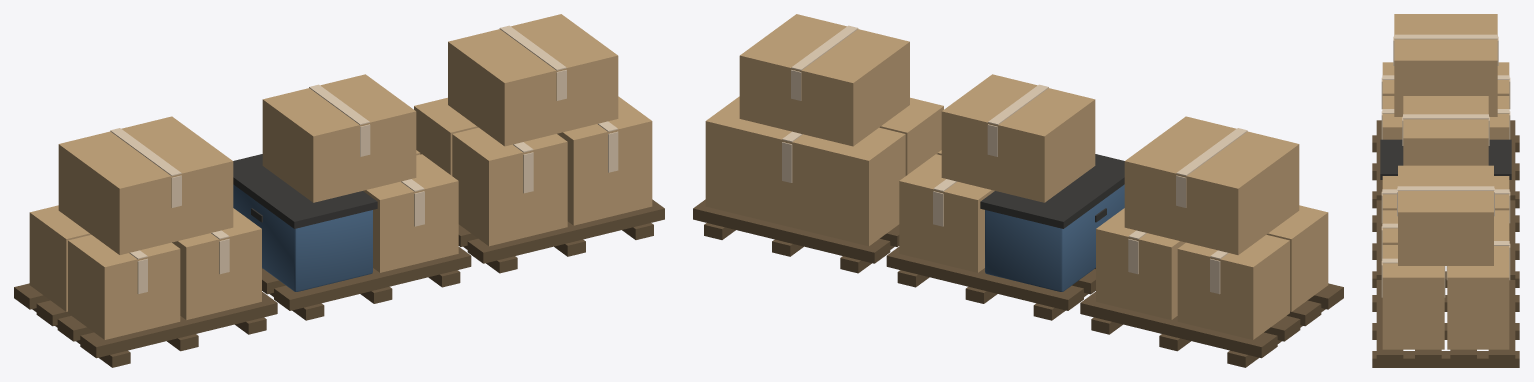
Rendered from cargo_row.glb.
3 renders of one model, left to right at view 1: azimuth 30°, elevation 25°; view 2: azimuth 150°, elevation 25°; view 3: azimuth 270°, elevation 25°, orthographic. The views are drawn at different scales.
Parts seen in each view (by area): view 1: P1_Top_1, P3_Top, P2_Top, P3_Box_1, P1_Box_1, P3_Box_2, P2_Container, P2_Box_1, P1_Box_2, P2_Container_Rim, P1_Box_3, RowPallet2_Deck_-0.38 (+9 smaller); view 2: P3_Box_3, P1_Top_1, P3_Top, P2_Top, P1_Box_3, P2_Container, P2_Box_2, P1_Box_4, P2_Container_Rim, P1_Box_1, RowPallet2_Deck_0.38, RowPallet1_Deck_0.38 (+8 smaller); view 3: P3_Top, P1_Top_1, P3_Box_3, P2_Top, P3_Box_2, P2_Container_Rim, RowPallet3_Runner_0.45, RowPallet3_Deck_0.38, RowPallet3_Deck_-0.38, P1_Box_2, P1_Box_4, P1_Top_1_Tape_Top (+21 smaller).
Part boxes in pixels (<box>): P1_Top_1: <box>58,116,233,254</box>; P3_Top: <box>448,14,618,146</box>; P2_Top: <box>262,74,416,202</box>; P3_Box_1: <box>452,127,567,246</box>; P1_Box_1: <box>68,235,180,339</box>; P3_Box_2: <box>557,96,652,225</box>; P2_Container: <box>233,184,372,291</box>; P2_Box_1: <box>363,154,458,272</box>; P1_Box_2: <box>172,208,261,319</box>; P2_Container_Rim: <box>233,154,377,228</box>; P1_Box_3: <box>29,205,91,311</box>; RowPallet2_Deck_-0.38: <box>274,247,471,310</box>; P3_Box_3: <box>705,96,905,246</box>; P1_Top_1: <box>1124,116,1299,254</box>; P3_Top: <box>739,14,909,146</box>; P2_Top: <box>941,74,1095,202</box>; P1_Box_3: <box>1177,235,1289,339</box>; P2_Container: <box>985,184,1124,291</box>; P2_Box_2: <box>899,154,994,272</box>; P1_Box_4: <box>1096,208,1185,319</box>; P2_Container_Rim: <box>980,154,1124,228</box>; P1_Box_1: <box>1266,205,1328,311</box>; RowPallet2_Deck_0.38: <box>886,247,1083,310</box>; RowPallet1_Deck_0.38: <box>1080,292,1277,358</box>; P3_Top: <box>1398,165,1493,265</box>; P1_Top_1: <box>1394,14,1497,116</box>; P3_Box_3: <box>1447,210,1509,349</box>; P2_Top: <box>1403,96,1488,165</box>; P3_Box_2: <box>1382,245,1444,349</box>; P2_Container_Rim: <box>1380,139,1511,179</box>; RowPallet3_Runner_0.45: <box>1372,351,1519,367</box>; RowPallet3_Deck_0.38: <box>1488,280,1515,364</box>; RowPallet3_Deck_-0.38: <box>1376,280,1403,364</box>; P1_Box_2: <box>1382,96,1402,139</box>; P1_Box_4: <box>1489,96,1509,139</box>; P1_Top_1_Tape_Top: <box>1394,34,1497,39</box>.
Size of the model in its own units: 3.76 by 1.11 by 1.
